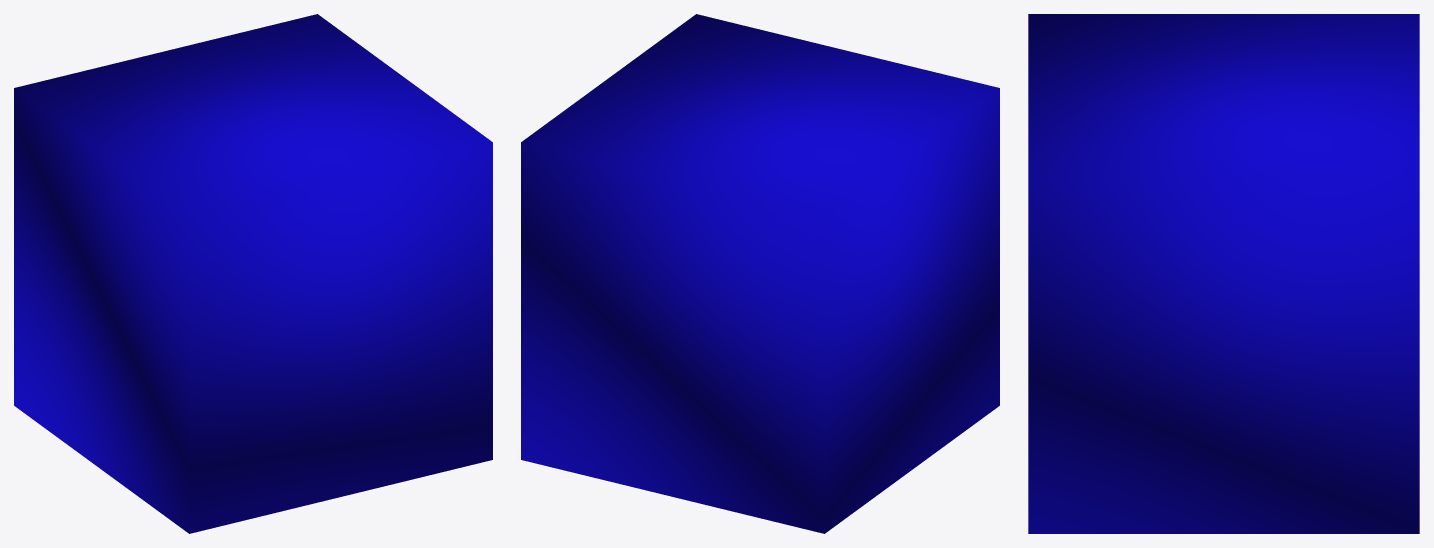
The model's file is shellBox.obj.
3 renders of one model, left to right at view 1: azimuth 30°, elevation 25°; view 2: azimuth 150°, elevation 25°; view 3: azimuth 270°, elevation 25°, orthographic. The views are drawn at different scales.
Visible parts, largest first — view 1: torus; view 2: torus; view 3: torus.
Part boxes in pixels (x1=…): torus: x1=14, y1=14, x2=492, y2=533; torus: x1=521, y1=14, x2=999, y2=533; torus: x1=1028, y1=14, x2=1419, y2=533.
Bounding box in the file's own units: 219 × 219 × 219.
